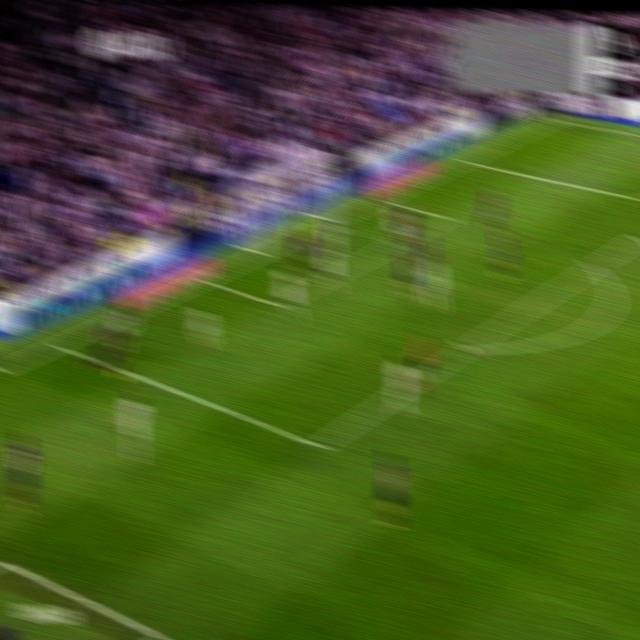bigarea_bottom_inner: (308, 428, 330, 462)
bigarea_bottom_outter: (48, 334, 68, 354)
bigarea_top_outter: (456, 150, 474, 167)
bottom_arc_area_intersection: (457, 334, 478, 361)
corner: (544, 111, 562, 127)
smallarea_bottom_inner: (270, 294, 286, 314)
smallarea_top_inner: (437, 206, 456, 228)
top_arc_area_intersection: (584, 254, 604, 276)
